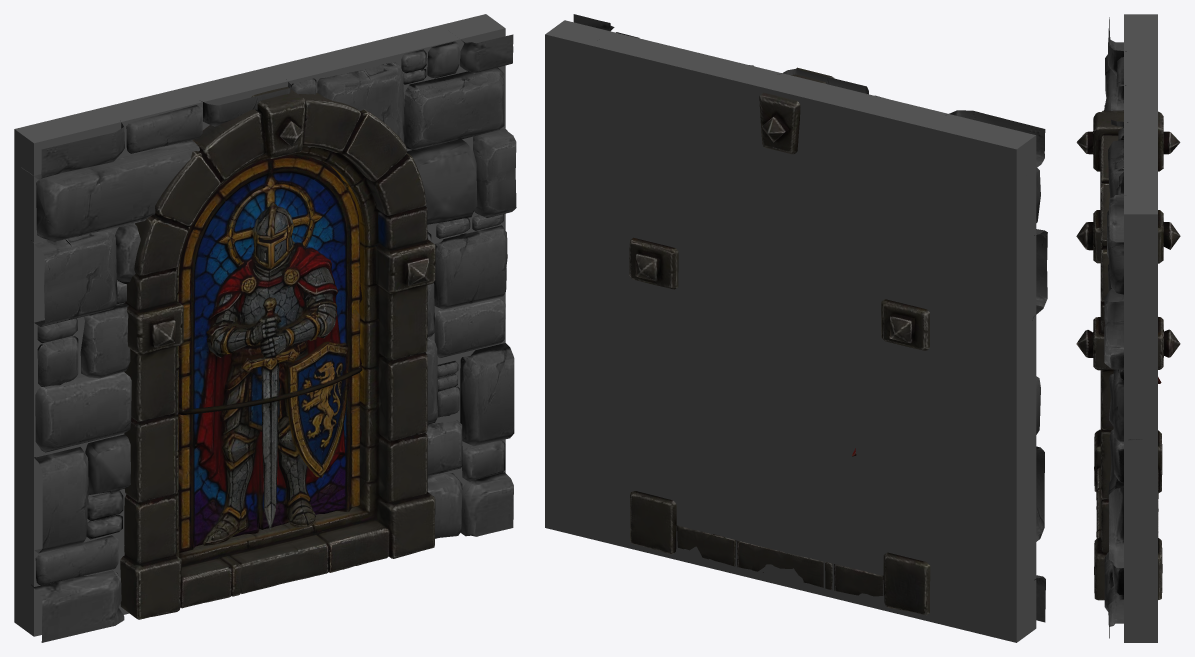
The model's file is Wall_StainedGlass_Knight.fbx.
3 views of the same model, side by side, from view 1: azimuth 30°, elevation 25°; view 2: azimuth 150°, elevation 25°; view 3: azimuth 270°, elevation 25° (orthographic). The views are drawn at different scales.
Visible parts, largest first — view 1: Wall_StainedGlass_Knight; view 2: Wall_StainedGlass_Knight; view 3: Wall_StainedGlass_Knight.
Part boxes in pixels (bbox=[...]): Wall_StainedGlass_Knight: bbox=[14, 14, 516, 642]; Wall_StainedGlass_Knight: bbox=[545, 14, 1047, 642]; Wall_StainedGlass_Knight: bbox=[1076, 14, 1180, 642].
Size of the model in its own units: 302 by 300 by 66.22.
Materials: 4 (3 with a texture image).
